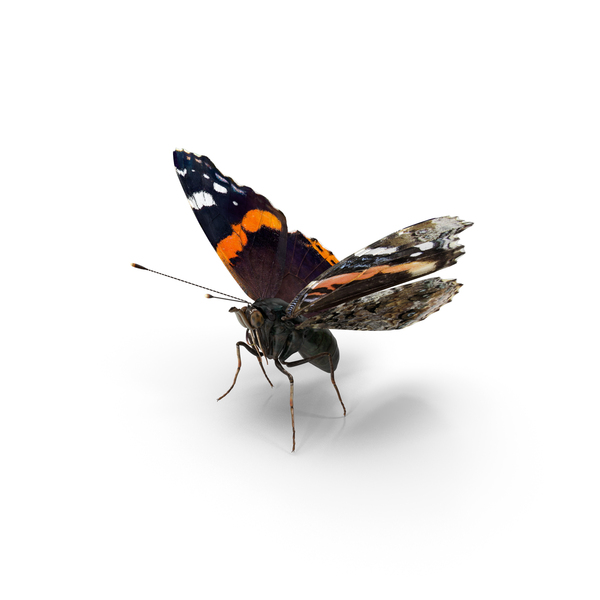Butterfly: (131, 145, 475, 456)
